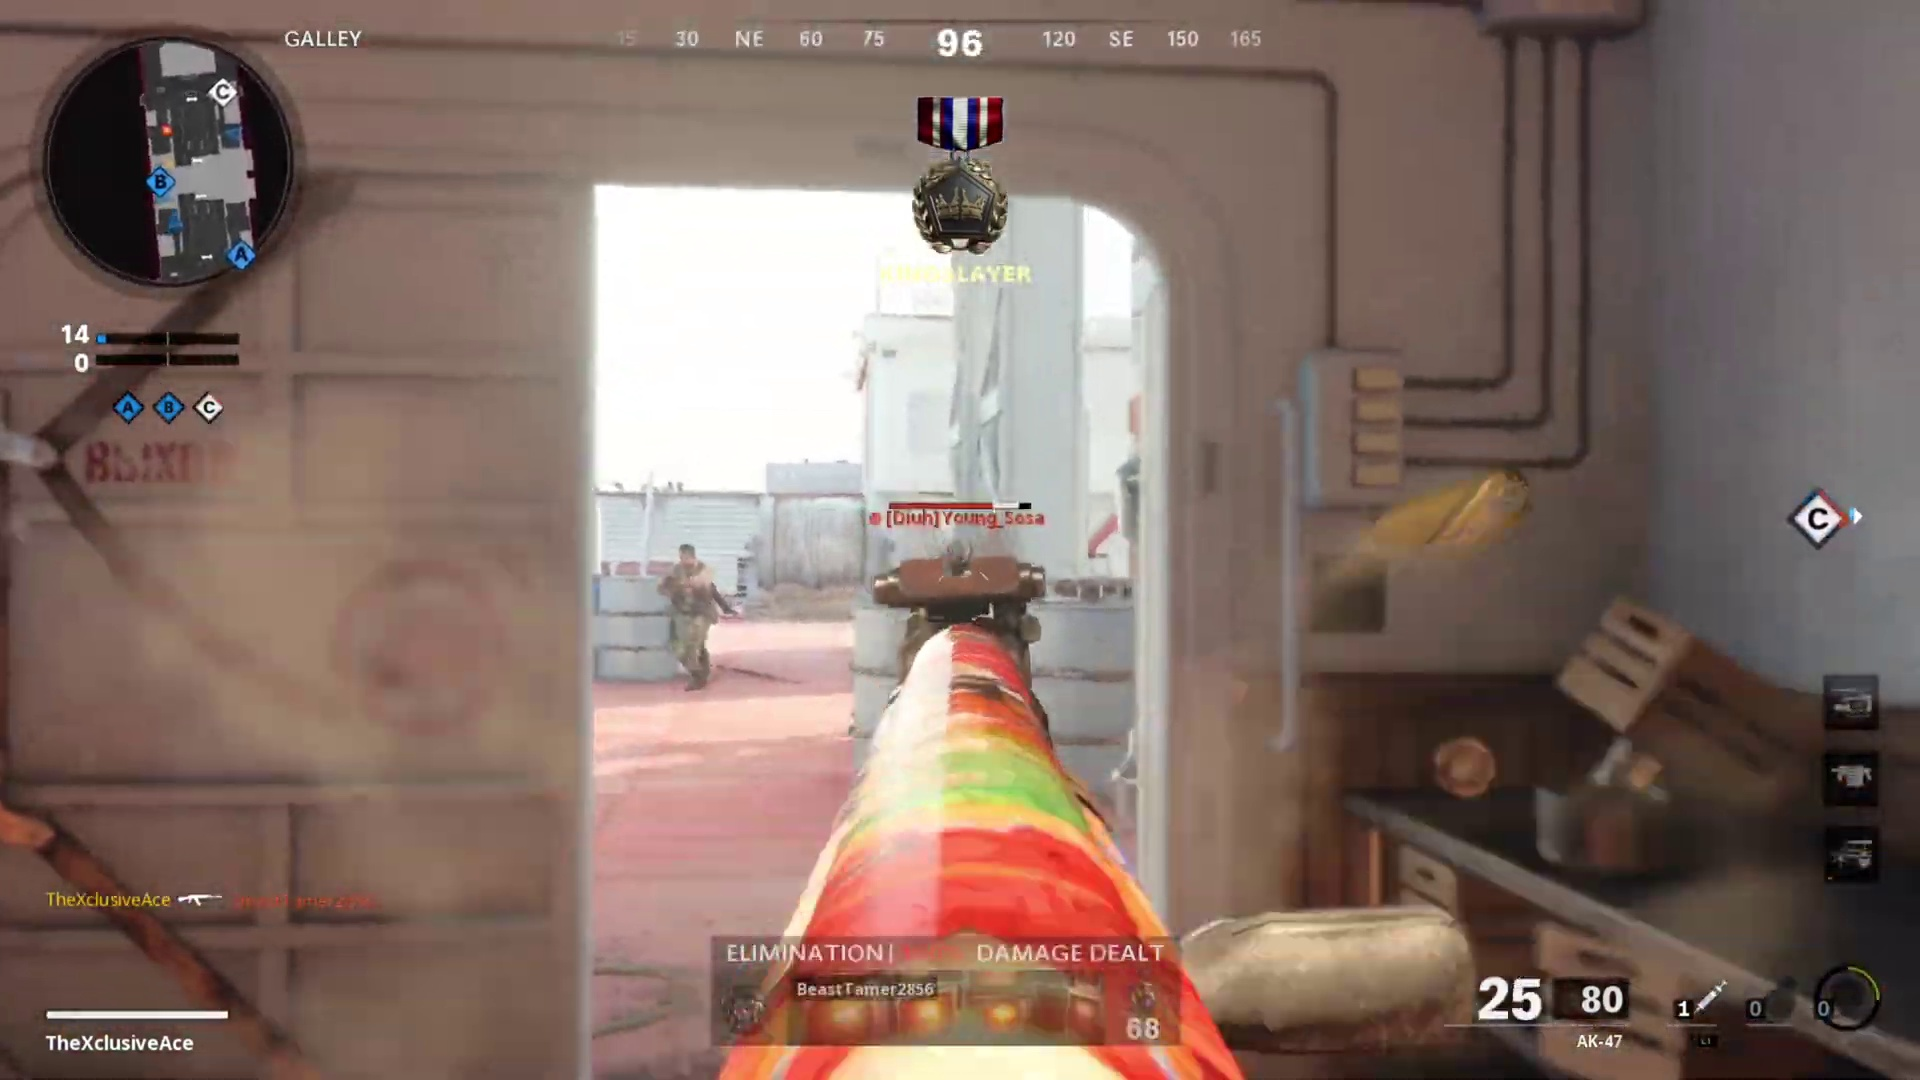head: (675, 538, 700, 571)
person: (656, 541, 738, 686)
